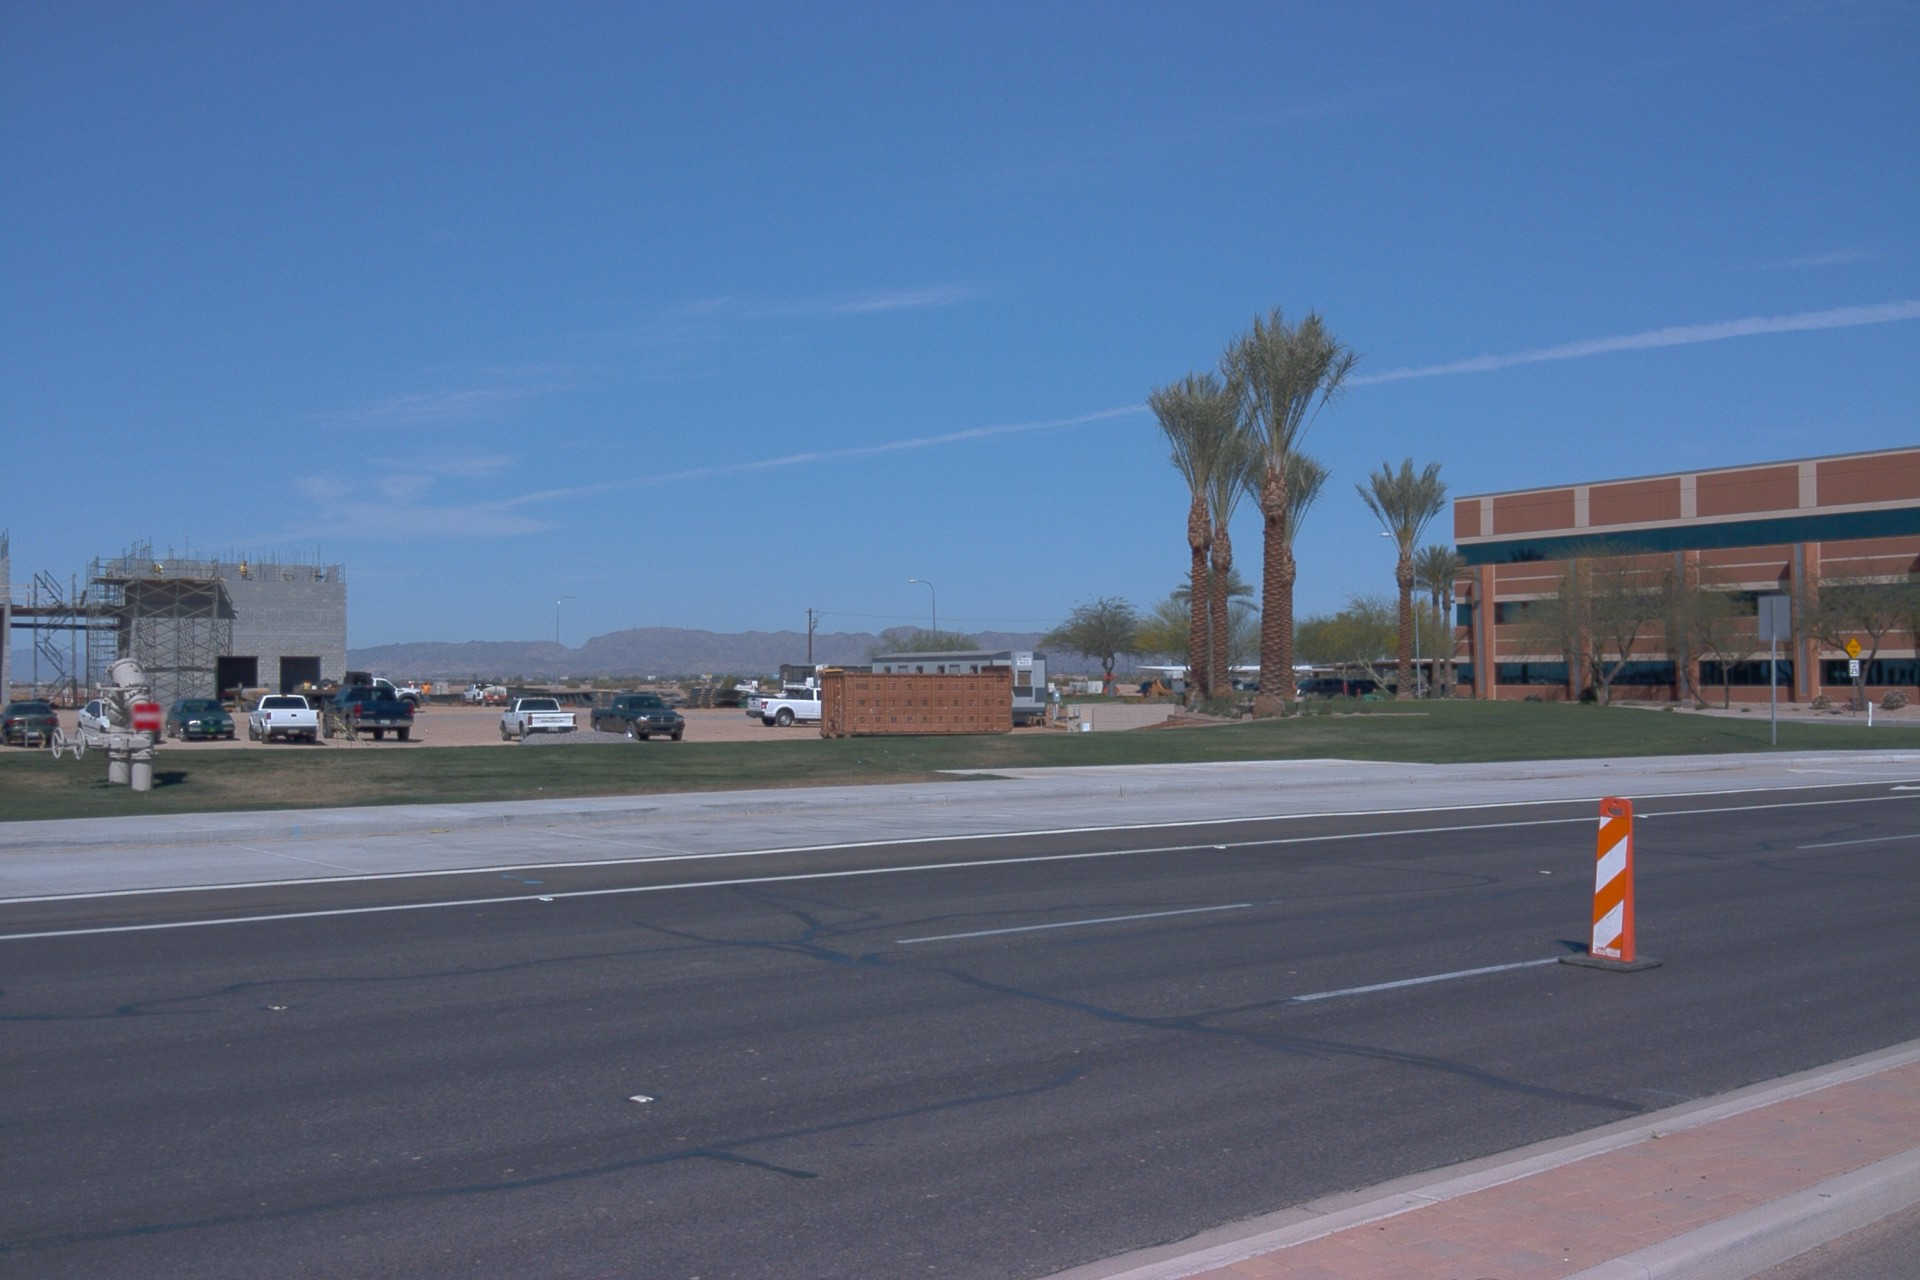TYPE_PEDESTRIAN: (422, 678, 432, 705), (150, 562, 163, 579), (1225, 676, 1234, 692), (1233, 679, 1244, 692)
TYPE_VEHICLE: (321, 683, 417, 744), (290, 674, 417, 716), (587, 691, 685, 742), (73, 698, 164, 749), (500, 692, 579, 741), (0, 694, 64, 753), (245, 692, 319, 743), (744, 683, 822, 729), (170, 693, 237, 742), (780, 663, 845, 703), (1297, 681, 1354, 702), (460, 687, 495, 708), (478, 688, 511, 709), (1251, 681, 1289, 696), (1347, 683, 1381, 699), (1140, 685, 1156, 700)
